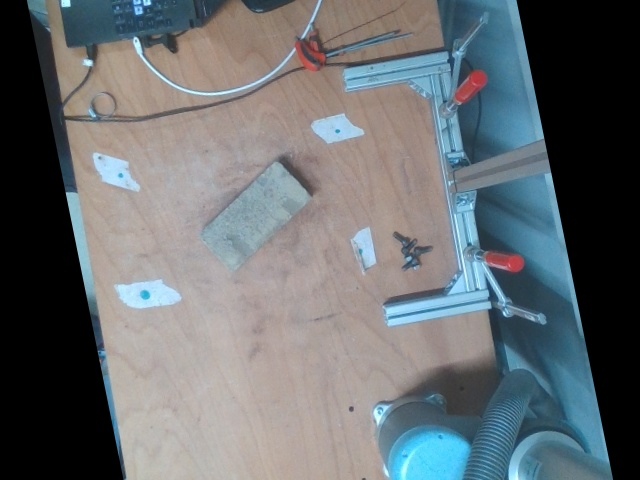brick: (199, 161, 308, 267)
